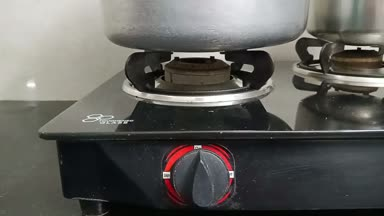noflame_gason: (134, 50, 256, 212)
